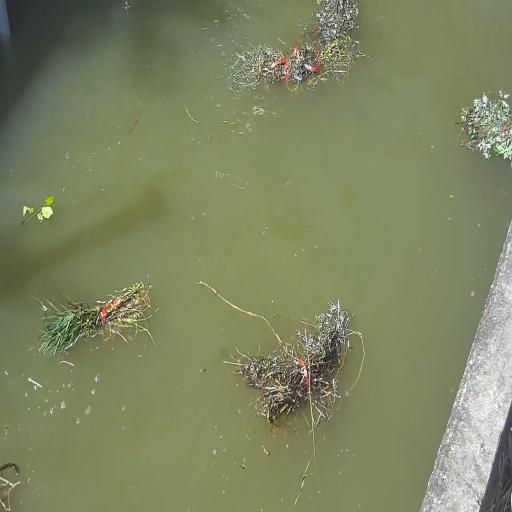twig: (236, 299, 360, 460), (198, 0, 360, 87), (40, 266, 171, 357), (469, 94, 512, 159), (5, 190, 54, 234)
